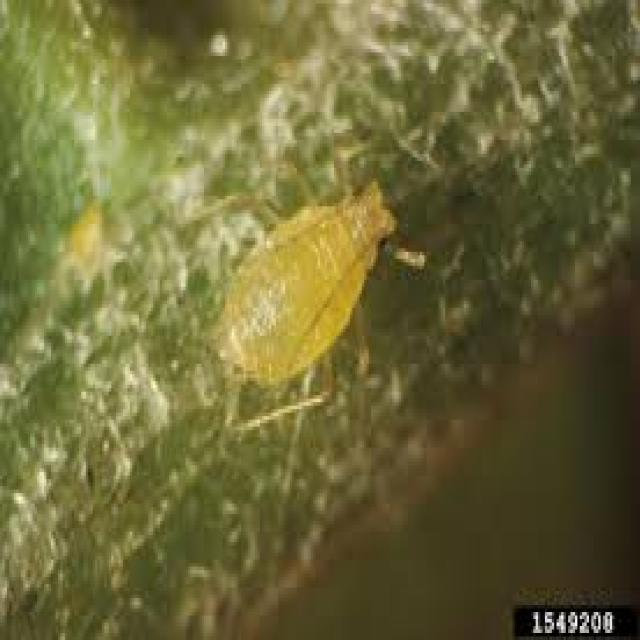Aphids: (192, 164, 418, 413)
